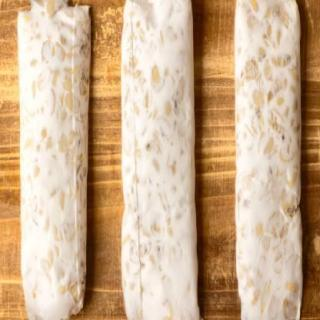Tempe: (118, 1, 203, 320), (15, 2, 93, 319), (232, 2, 305, 319)
